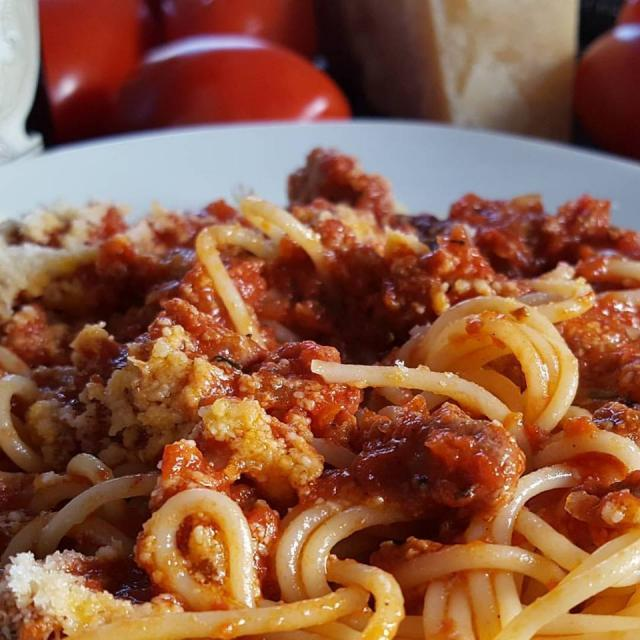Pasta al ragu: (10, 134, 632, 618)
